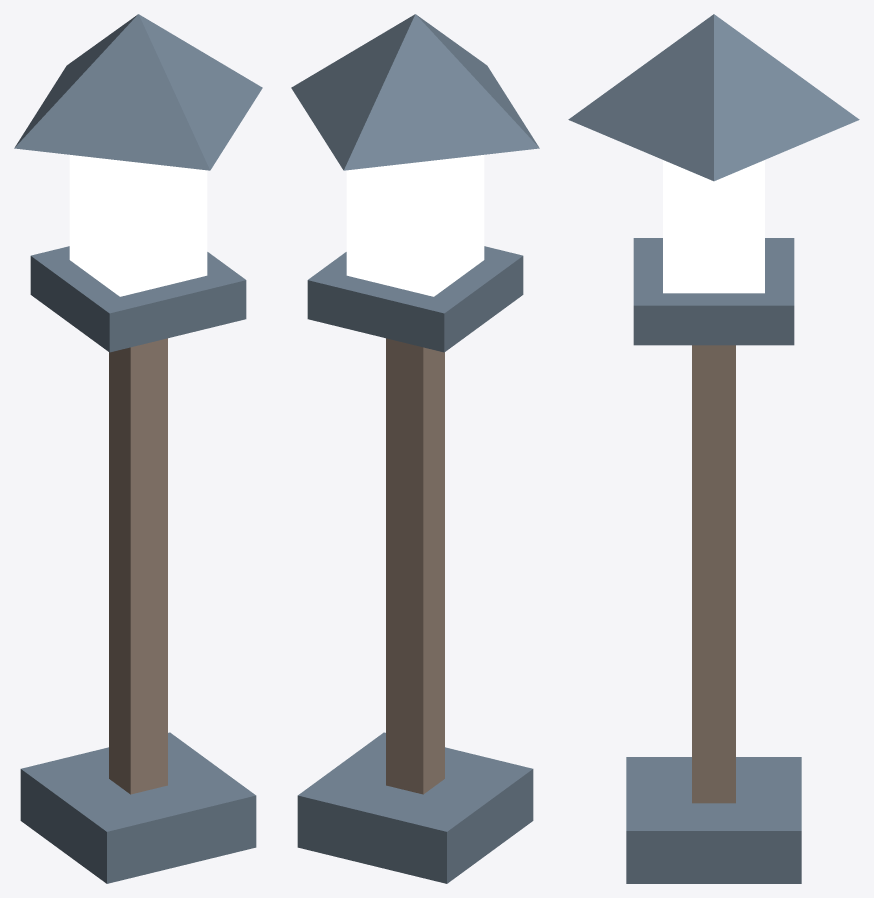
The model's file is lantern.glb.
The picture shows the model from 3 angles, left to right: view 1: azimuth 30°, elevation 25°; view 2: azimuth 150°, elevation 25°; view 3: azimuth 270°, elevation 25°; orthographic projection.
Parts seen in each view (by area): view 1: Post, Roof, Foot, Warm glass, Lantern base; view 2: Post, Roof, Foot, Warm glass, Lantern base; view 3: Roof, Foot, Post, Warm glass, Lantern base.
Boxes of the visible parts, left/top/right/bottom form: Post: left=109, top=338, right=167, bottom=794; Roof: left=14, top=14, right=262, bottom=170; Foot: left=20, top=732, right=256, bottom=883; Warm glass: left=69, top=155, right=207, bottom=296; Lantern base: left=30, top=246, right=246, bottom=352; Post: left=386, top=338, right=444, bottom=794; Roof: left=291, top=14, right=539, bottom=170; Foot: left=297, top=732, right=533, bottom=883; Warm glass: left=346, top=155, right=484, bottom=296; Lantern base: left=307, top=246, right=523, bottom=352; Roof: left=568, top=14, right=859, bottom=181; Foot: left=626, top=757, right=801, bottom=883; Post: left=692, top=345, right=735, bottom=803; Warm glass: left=663, top=160, right=764, bottom=293; Lantern base: left=633, top=238, right=794, bottom=345.
Size of the model in its own units: 1.25 by 3.94 by 1.25.
